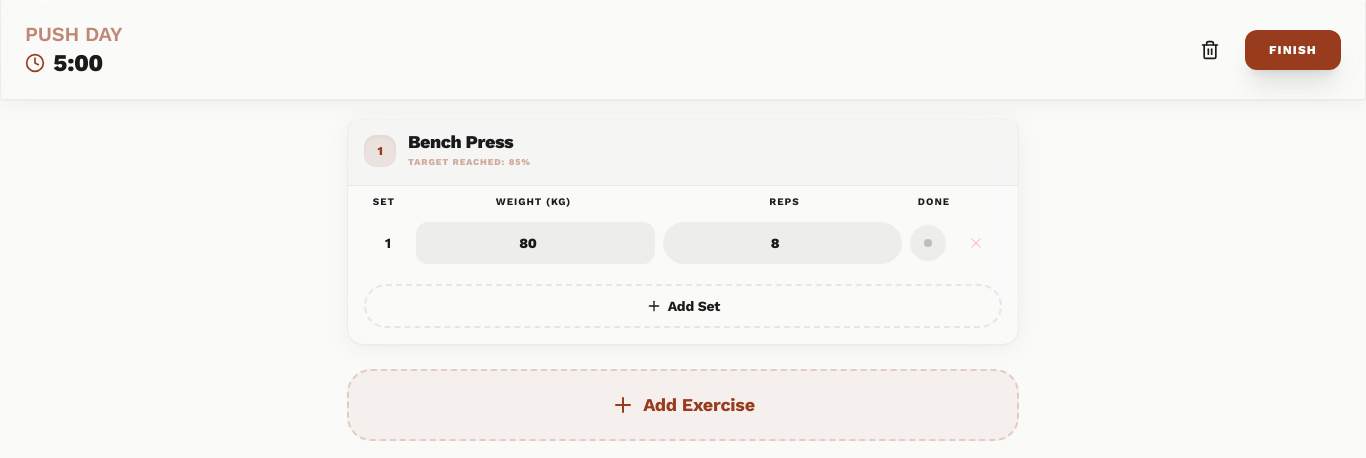
Test: WorkoutSession Component › shows empty state when no exercises match search
This screenshot has width=1366, height=458.
Click the button "Add Exercise": coordinates (683, 405) [347,369,1019,441]
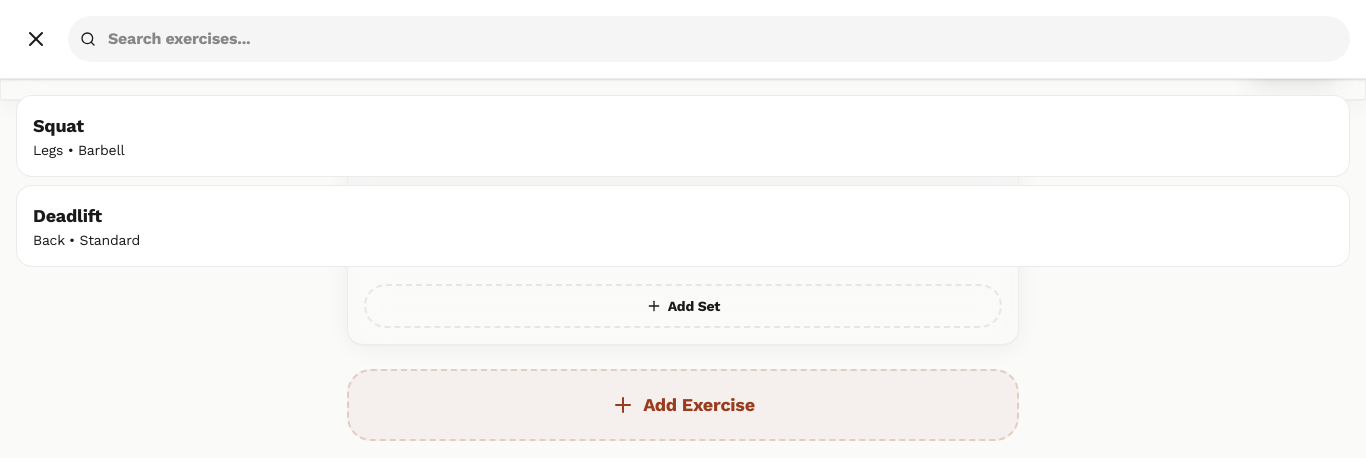
In the field with placeholder "Search exercises...": coordinates (709, 39) [68,16,1350,62], type "ZZZnotfound"
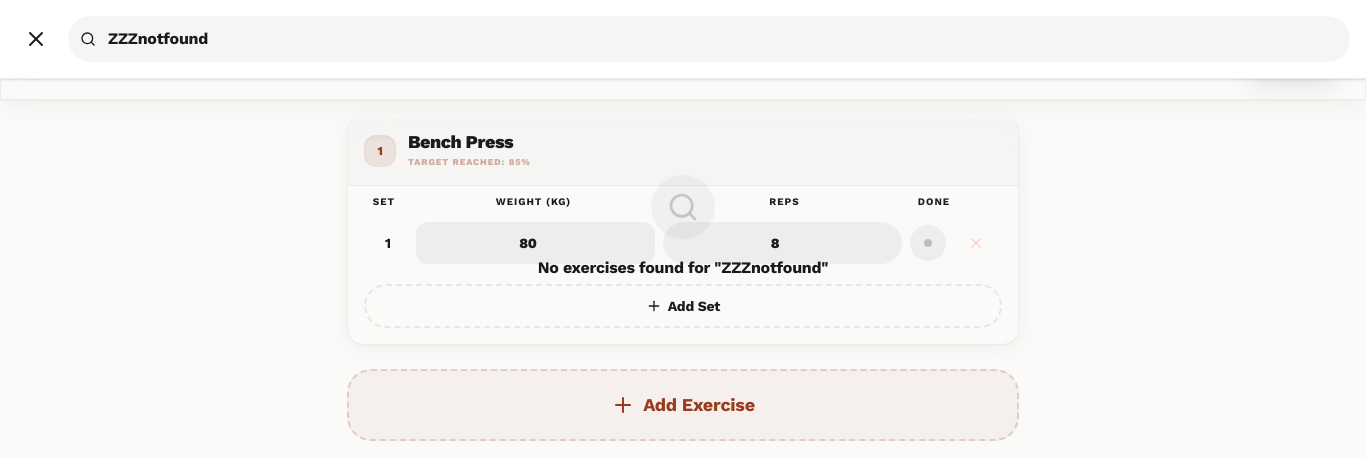
Expected: the text "No exercises found for \"ZZZnotfound\"" is shown, [538,255,828,280]
